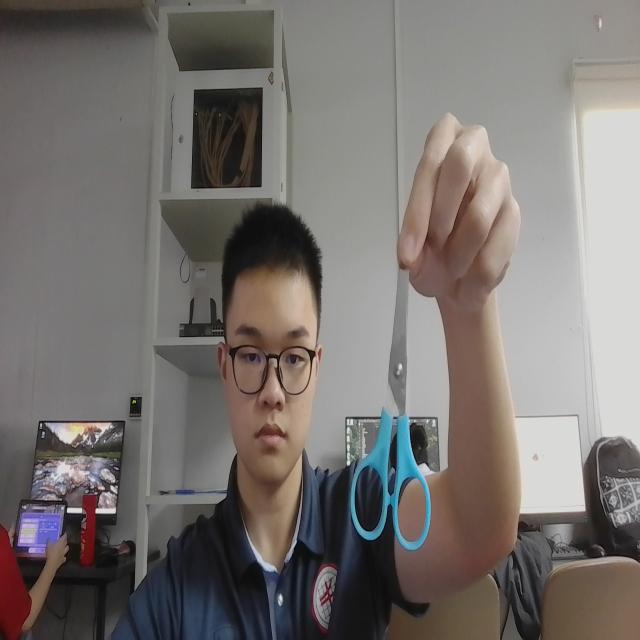scissors: (341, 238, 439, 556)
